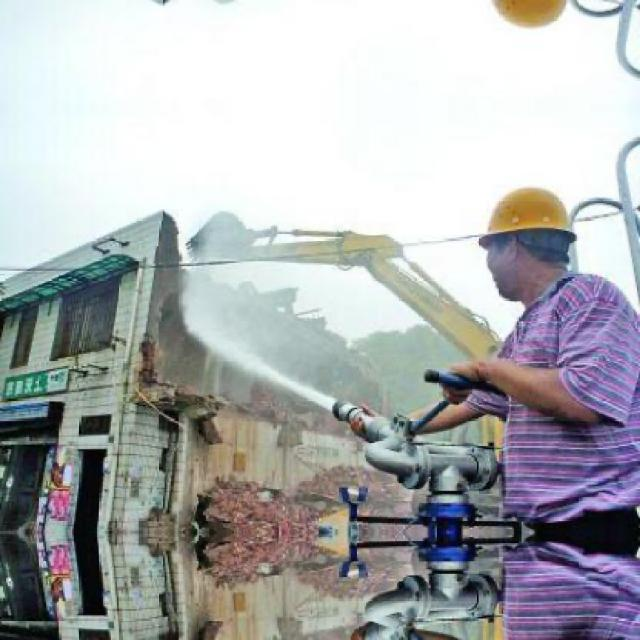helmet: (472, 166, 578, 302), (472, 0, 580, 48)
